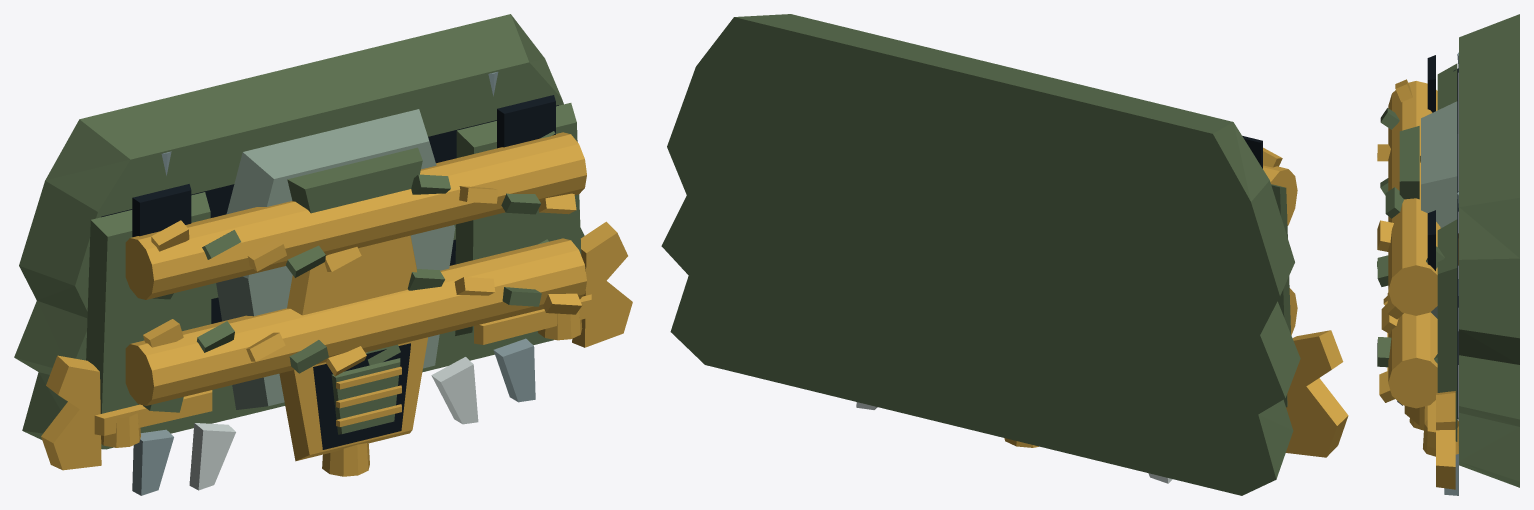
The picture shows the model from 3 angles, left to right: view 1: azimuth 30°, elevation 25°; view 2: azimuth 150°, elevation 25°; view 3: azimuth 270°, elevation 25°; orthographic projection. The views are drawn at different scales.
Visible parts, largest first — view 1: Model, Drum0, Drum1; view 2: Model, Drum1; view 3: Model, Drum1, Drum0.
Part boxes in pixels (<box>): Model: <box>14,14,632,495</box>; Drum0: <box>125,238,586,412</box>; Drum1: <box>125,131,586,299</box>; Model: <box>661,14,1348,495</box>; Drum1: <box>1263,147,1297,225</box>; Model: <box>1387,14,1519,495</box>; Drum1: <box>1377,79,1444,319</box>; Drum0: <box>1377,261,1437,408</box>.
Bounding box in the file's own units: 3.56 × 2.12 × 0.868.
